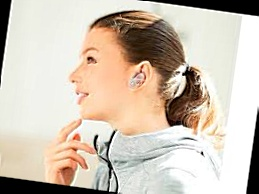earphone: (128, 59, 154, 95)
